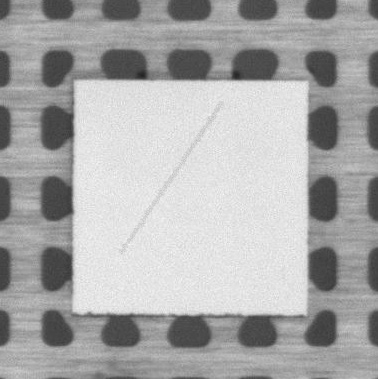DIE_CRACK: (121, 103, 221, 254)
